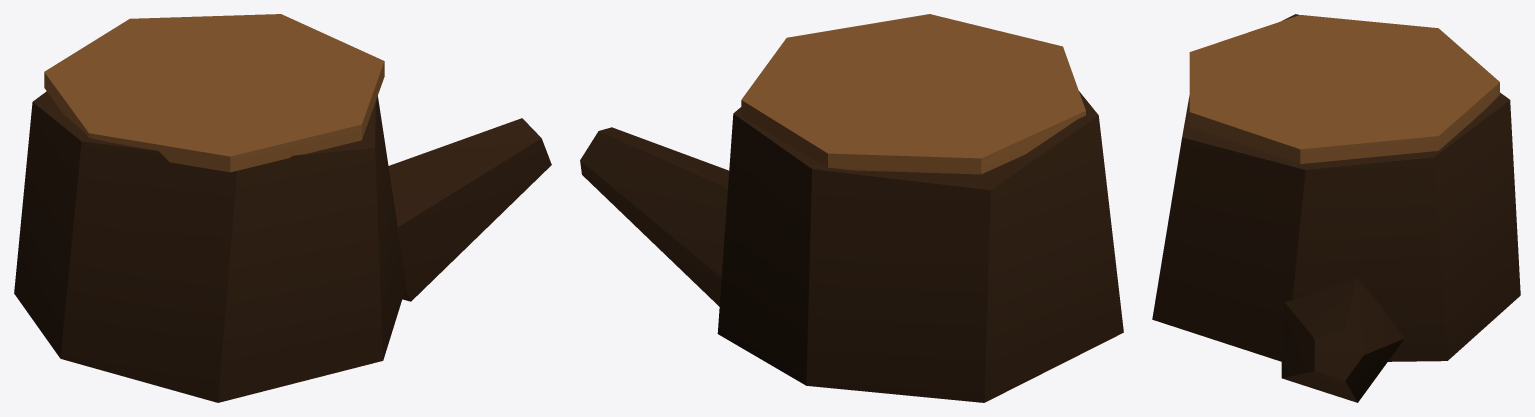
Rendered from stump.glb.
The picture shows the model from 3 angles, left to right: view 1: azimuth 30°, elevation 25°; view 2: azimuth 150°, elevation 25°; view 3: azimuth 270°, elevation 25°; orthographic projection. The views are drawn at different scales.
Visible parts, largest first — view 1: stump; view 2: stump; view 3: stump.
Part boxes in pixels (<box>): stump: <box>14,14,551,402</box>; stump: <box>580,14,1123,402</box>; stump: <box>1152,14,1520,402</box>.
Size of the model in its own units: 0.4012 by 0.1967 by 0.2709.
